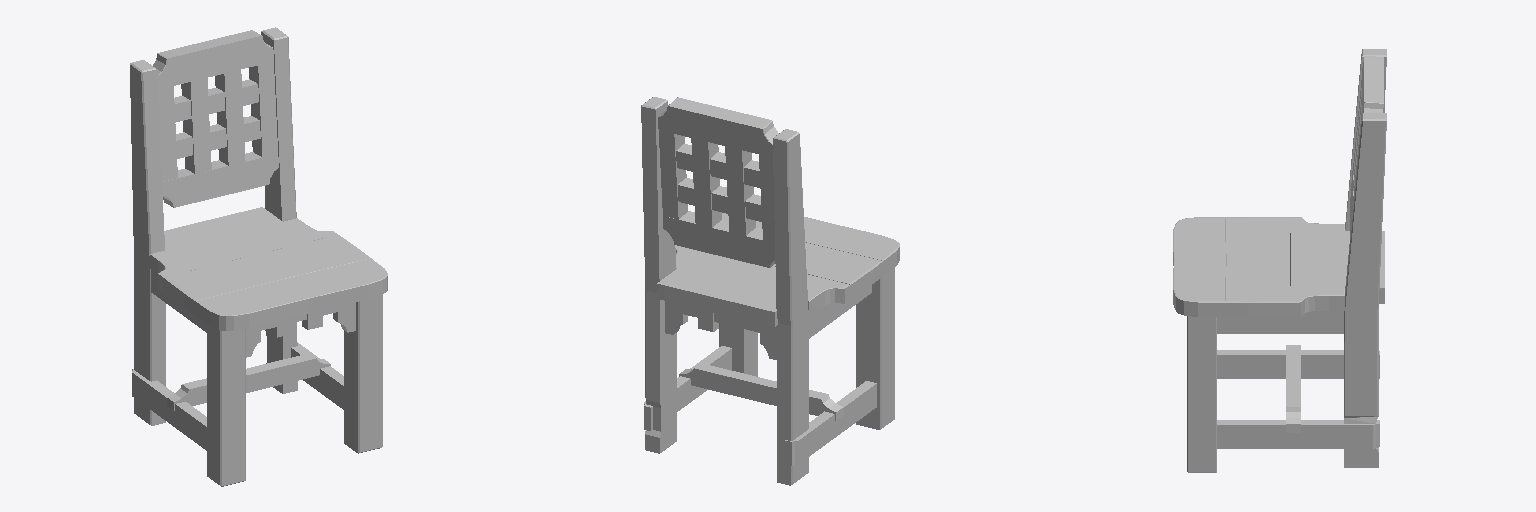
The model's file is silla.obj.
3 views of the same model, side by side, from view 1: azimuth 30°, elevation 25°; view 2: azimuth 150°, elevation 25°; view 3: azimuth 270°, elevation 25° (orthographic).
Visible parts, largest first — view 1: chair_strong_03:Mesh; view 2: chair_strong_03:Mesh; view 3: chair_strong_03:Mesh.
Boxes of the visible parts, x1=… form: chair_strong_03:Mesh: x1=130, y1=27, x2=387, y2=486; chair_strong_03:Mesh: x1=641, y1=97, x2=899, y2=485; chair_strong_03:Mesh: x1=1173, y1=49, x2=1386, y2=472.
Bounding box in the file's own units: 4.35 × 8.37 × 4.56.